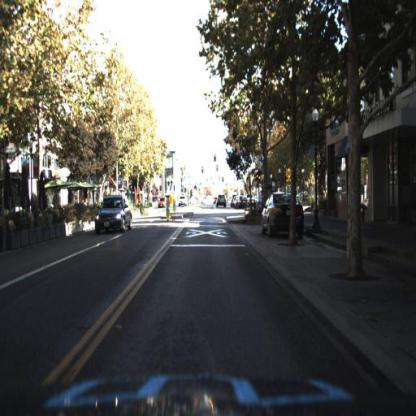car: (261, 192, 308, 241), (93, 195, 133, 239), (218, 193, 230, 214)
